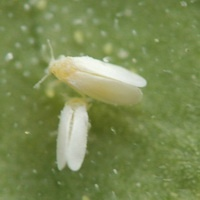insect: (34, 42, 146, 104), (56, 98, 87, 170)
